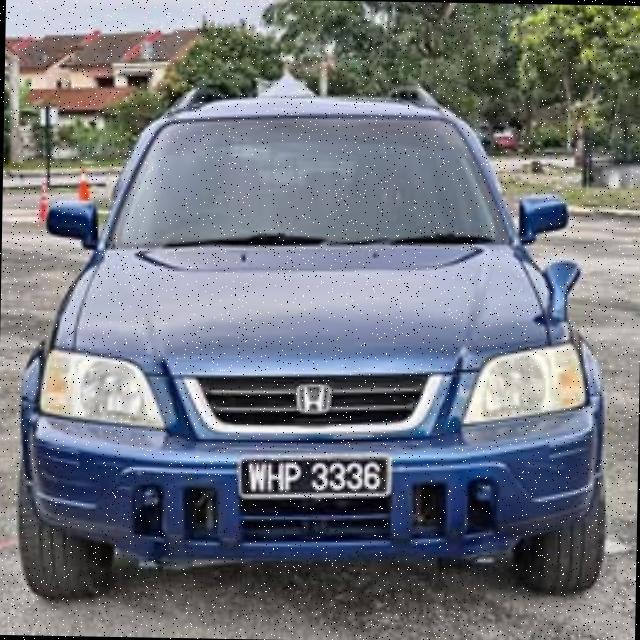License_Plate: (237, 453, 393, 502)
car: (14, 65, 616, 609)
